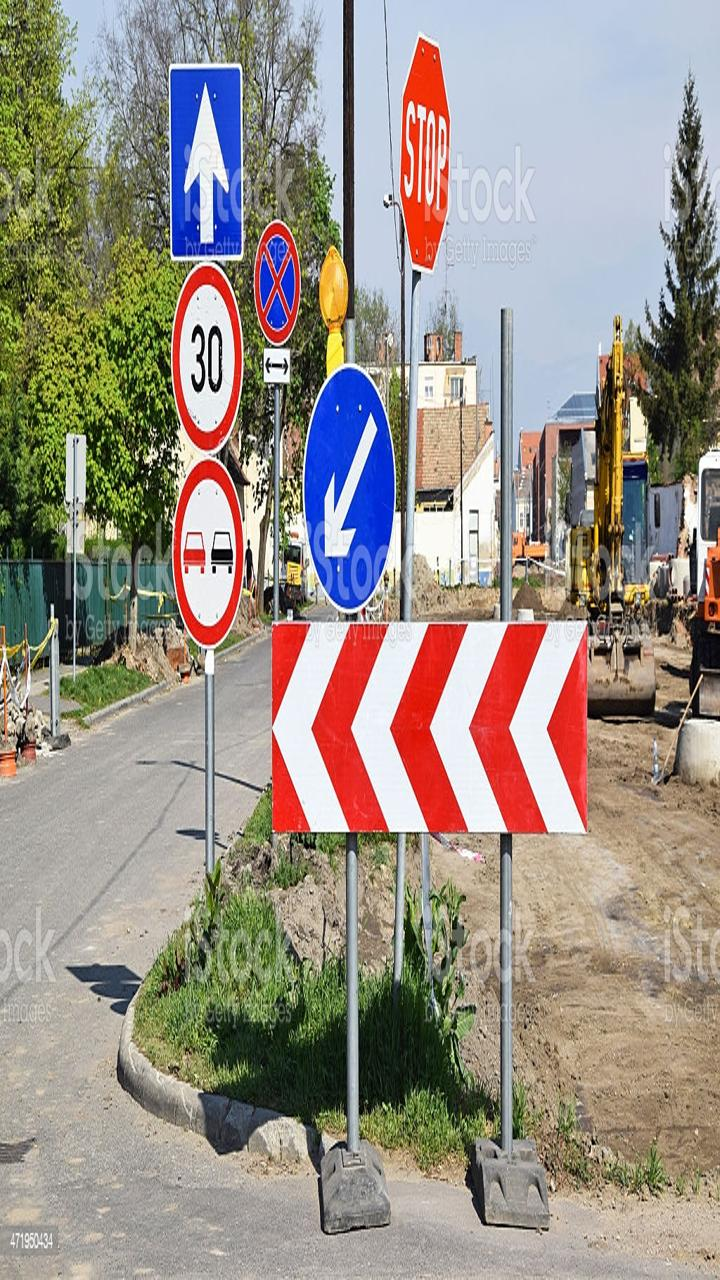Traffic sign: (254, 612, 614, 847), (378, 20, 512, 296), (291, 371, 404, 611), (162, 38, 275, 278), (140, 267, 274, 451), (146, 457, 264, 653), (248, 215, 326, 360)
